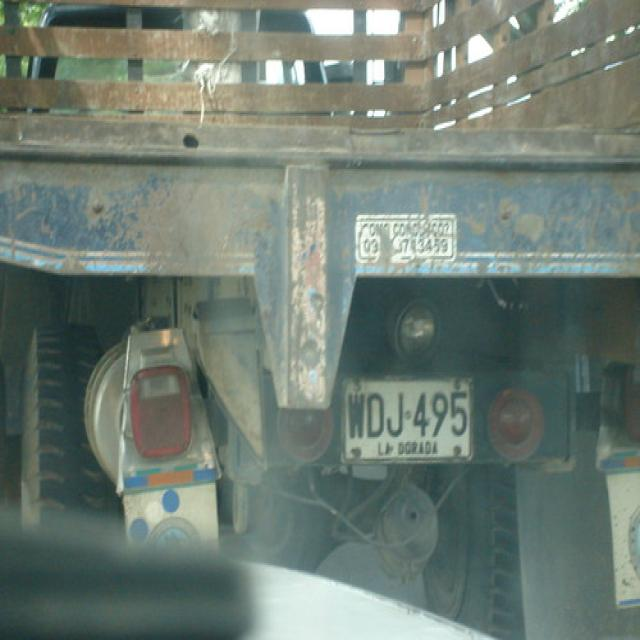placas: (344, 388, 467, 436)
